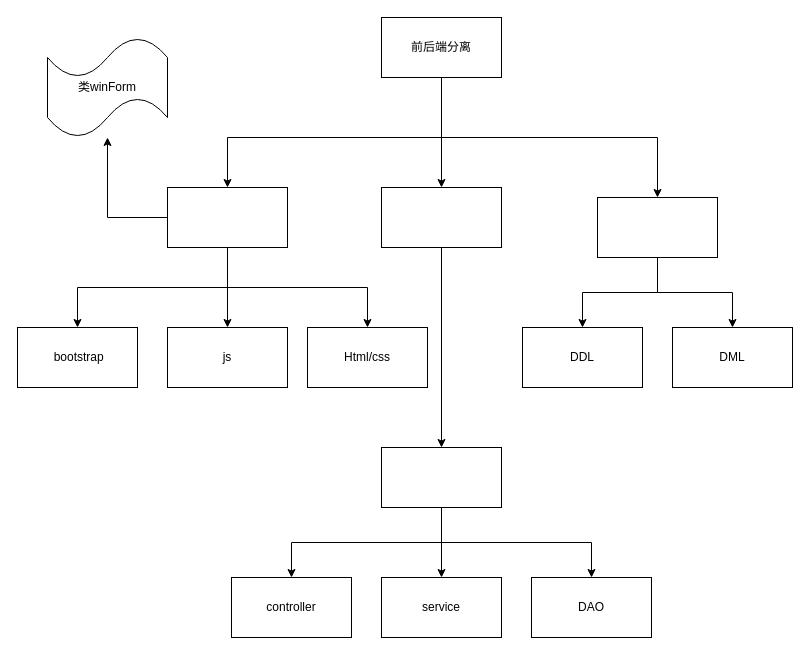
This 810x655 diagram has some shape labels left out. Here are the shapes that lost their labels. From the top down, the box of each, then its label:
(166, 186, 288, 248): vue
(380, 186, 502, 248): java
(596, 196, 718, 258): MySQL
(380, 446, 502, 508): Spring boot
